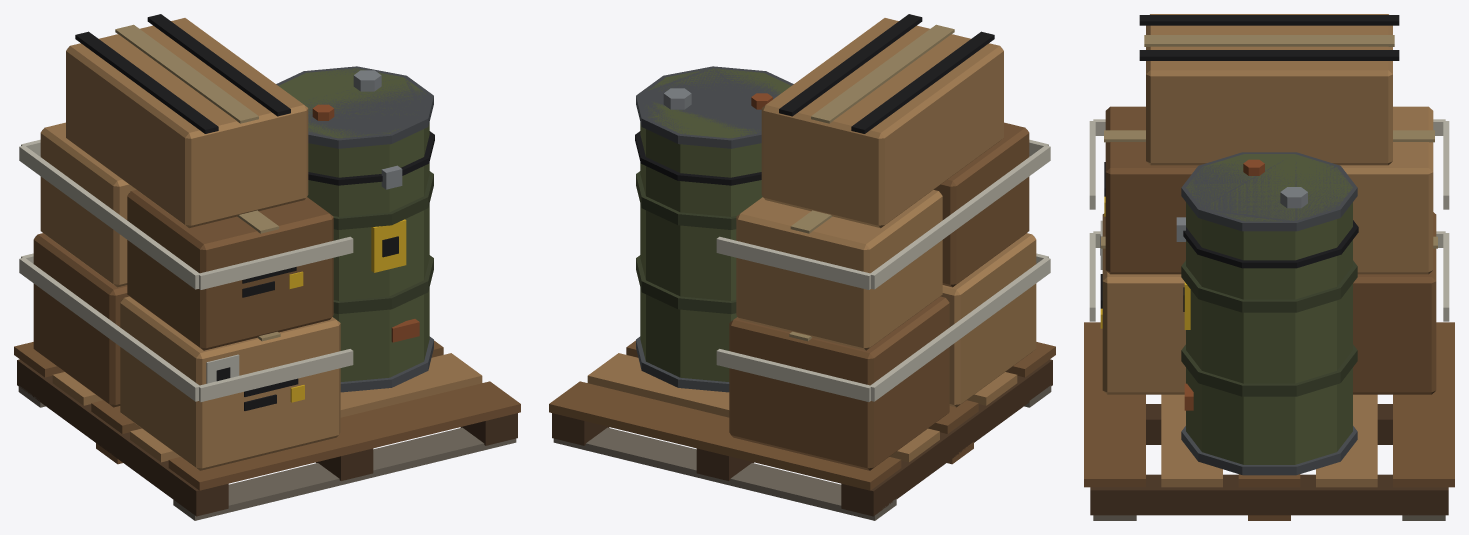
The model's file is prop_delivery_pallet.fbx.
3 views of the same model, side by side, from view 1: azimuth 30°, elevation 25°; view 2: azimuth 150°, elevation 25°; view 3: azimuth 270°, elevation 25° (orthographic).
Parts seen in each view (by area): view 1: prop_delivery_pallet; view 2: prop_delivery_pallet; view 3: prop_delivery_pallet.
Boxes of the visible parts, x1,y1,x2,y2 form: prop_delivery_pallet: (14,14,520,520); prop_delivery_pallet: (549,14,1055,520); prop_delivery_pallet: (1084,14,1454,520).
Bounding box in the file's own units: 1.2 × 1.31 × 1.2.
